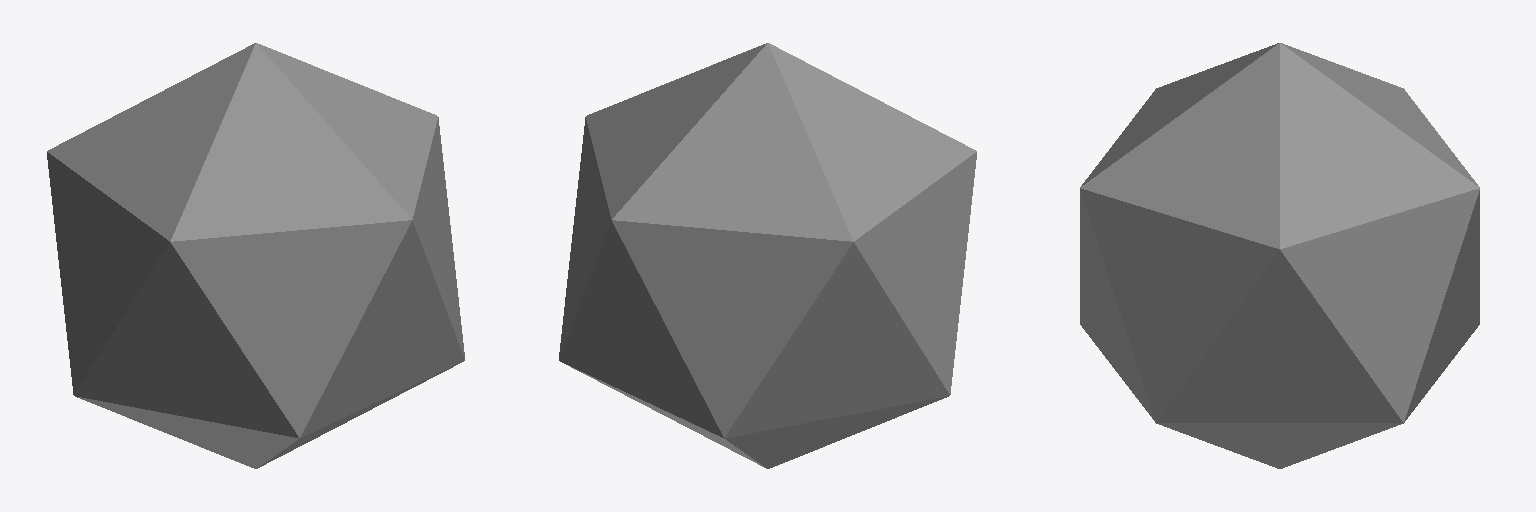
File: smoke.obj
3 views of the same model, side by side, from view 1: azimuth 30°, elevation 25°; view 2: azimuth 150°, elevation 25°; view 3: azimuth 270°, elevation 25° (orthographic).
Visible parts, largest first — view 1: Icosphere; view 2: Icosphere; view 3: Icosphere.
Part boxes in pixels (x1,y1,x2,y2): Icosphere: (47,43,464,468); Icosphere: (559,43,976,468); Icosphere: (1080,43,1479,468).
Bounding box in the file's own units: 0.0894 × 0.1 × 0.0851.